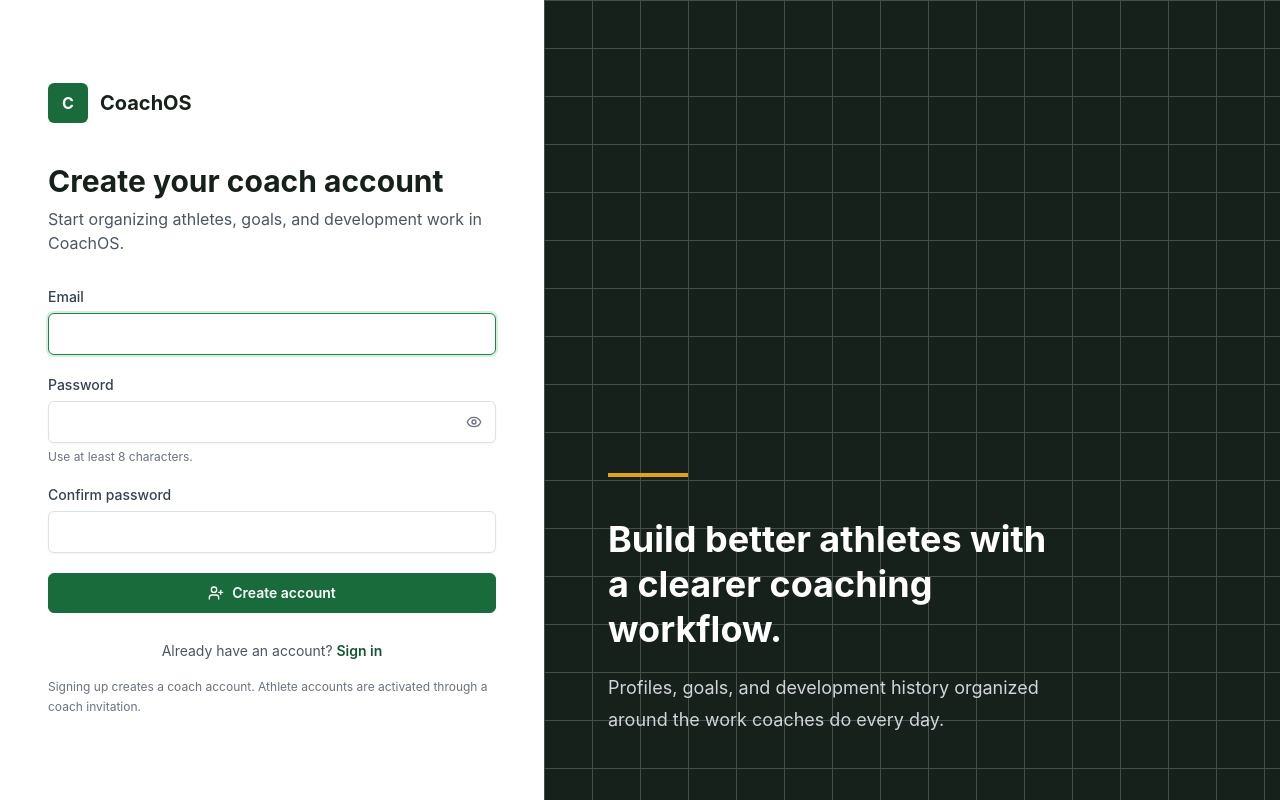
Test: authentication › creates a coach account and opens the workspace
Expected: the heading "Create your coach account" is shown, [48,163,496,199]
Step 1. Type "new-coach@example.com" into the field labelled "Email" → {"x": 272, "y": 334}, box [48,313,496,355]
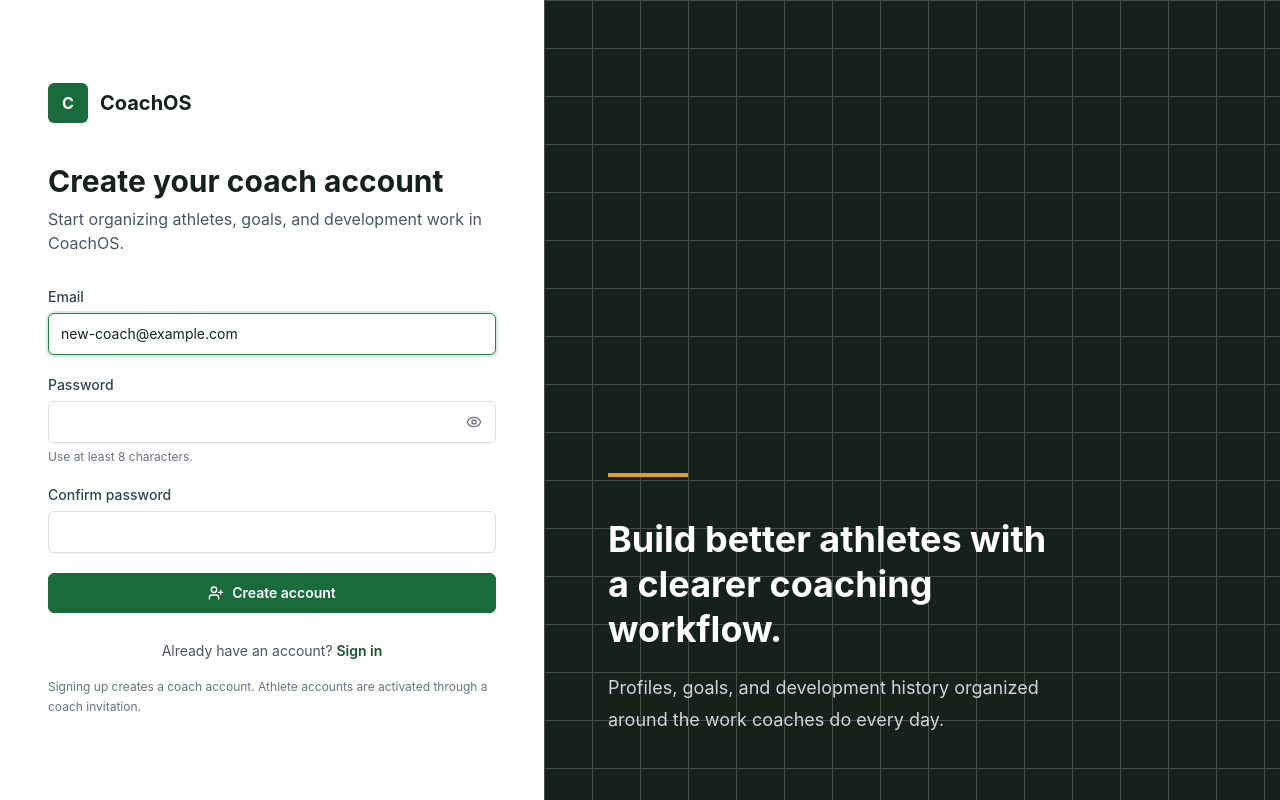
Step 2. Type "secure-password" into the password field labelled "Password" → {"x": 272, "y": 422}, box [48,401,496,443]
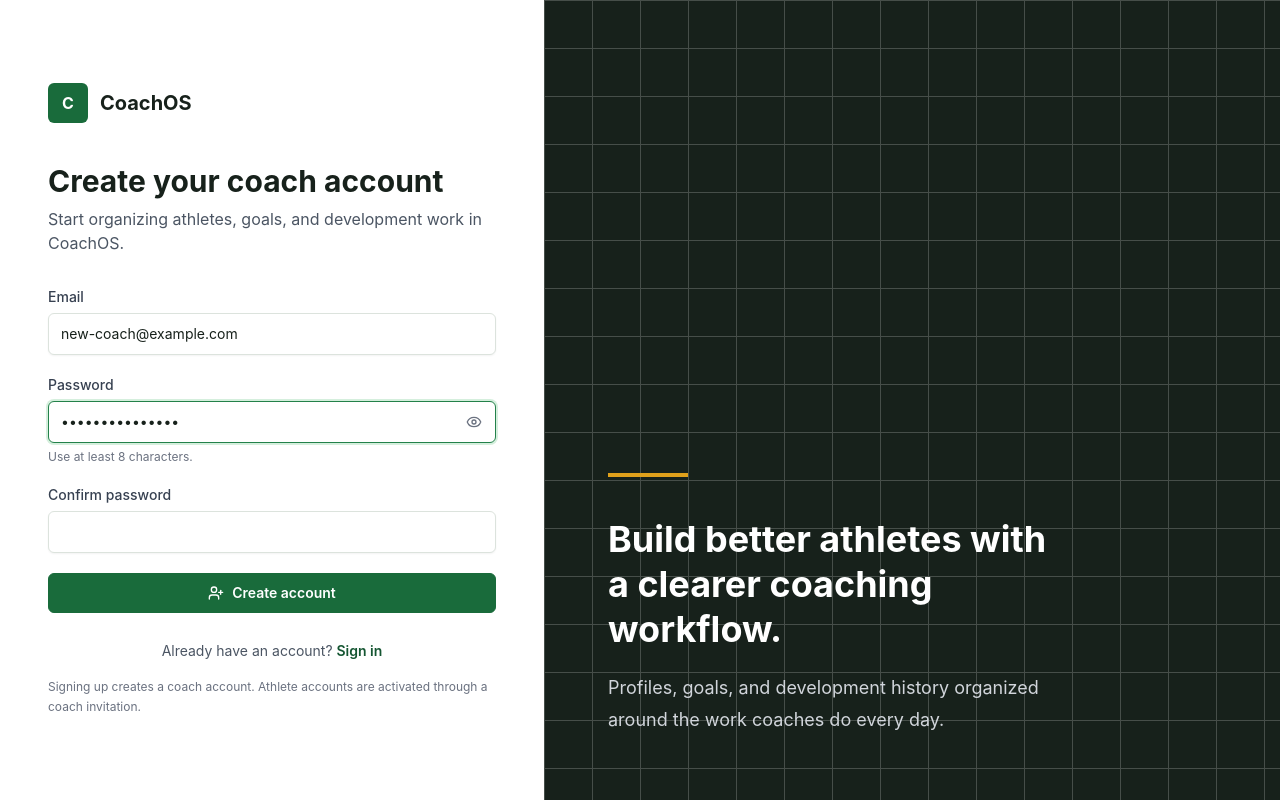
Step 3. Type "secure-password" into the password field labelled "Confirm password" → {"x": 272, "y": 532}, box [48,511,496,553]
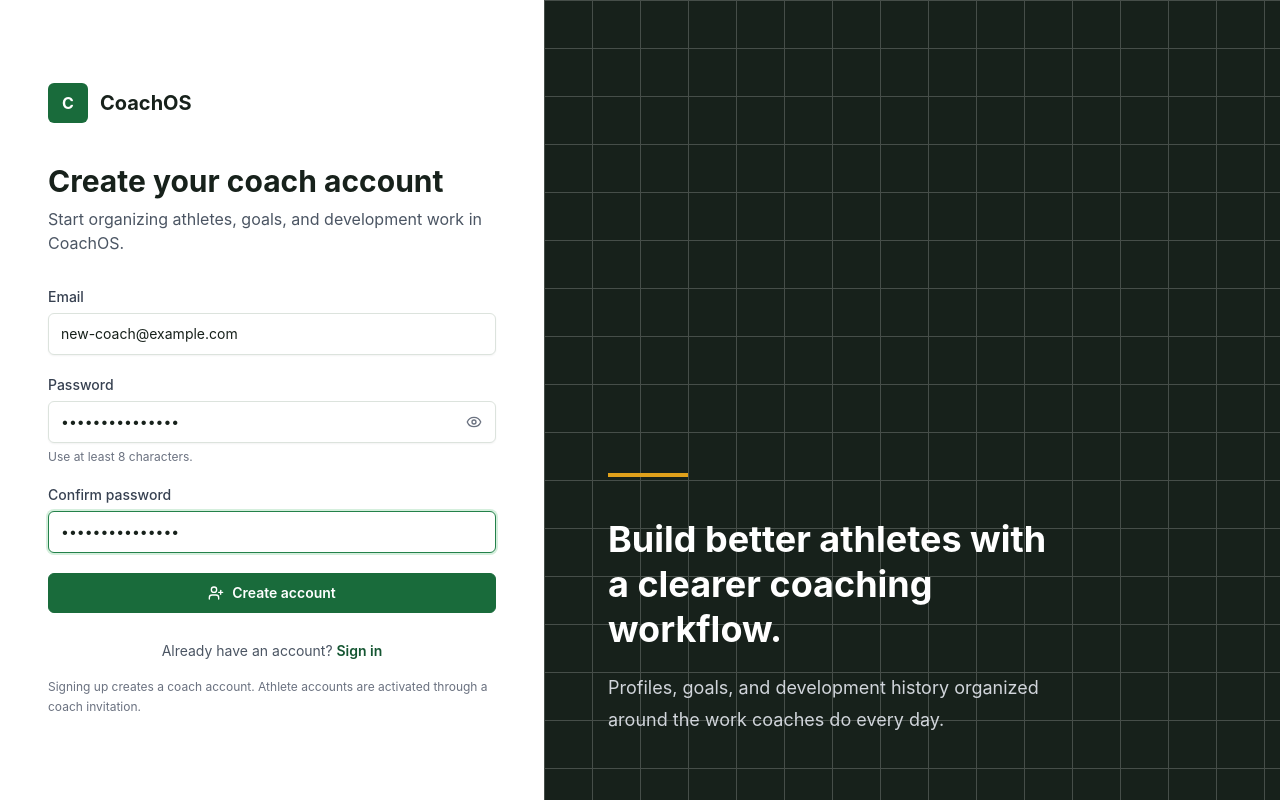
Step 4. Click the button "Create account" → {"x": 272, "y": 593}, box [48,573,496,613]
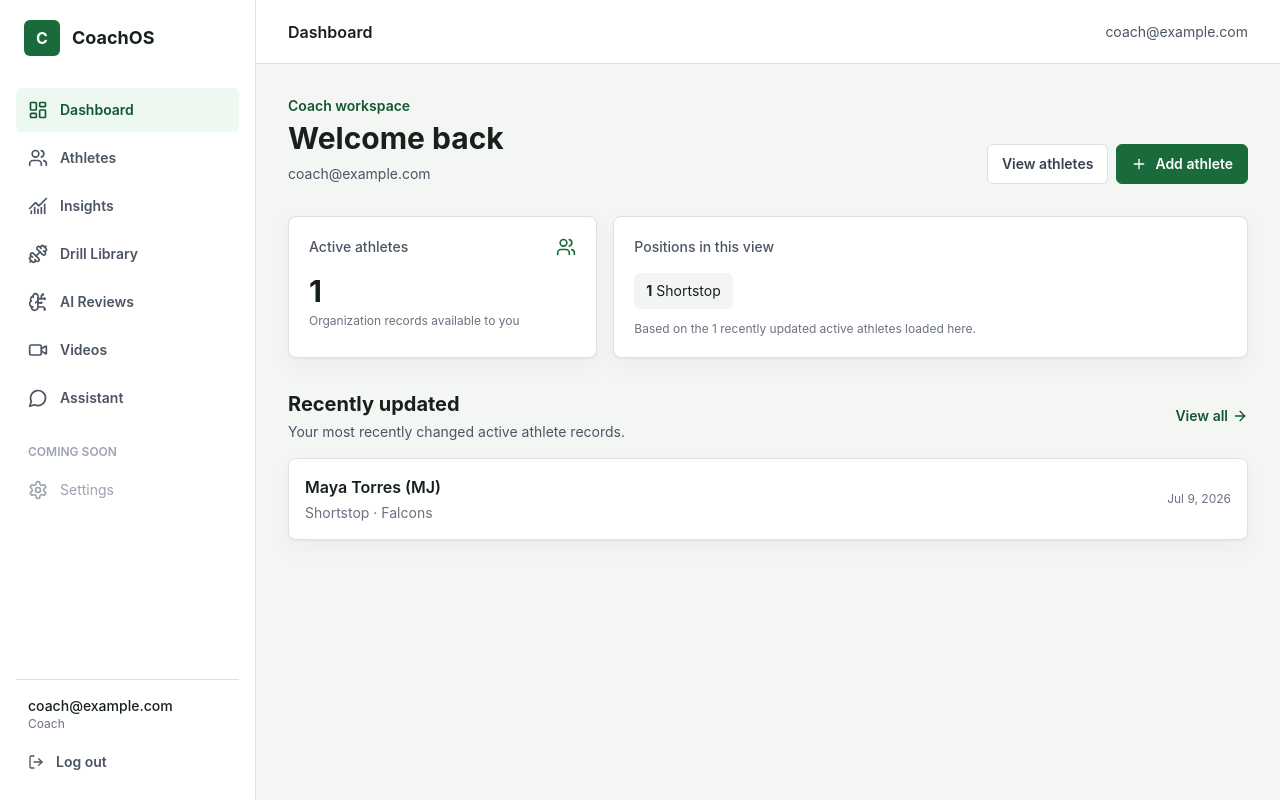
Expected: the heading "Welcome back" is shown, [288,120,504,156]
